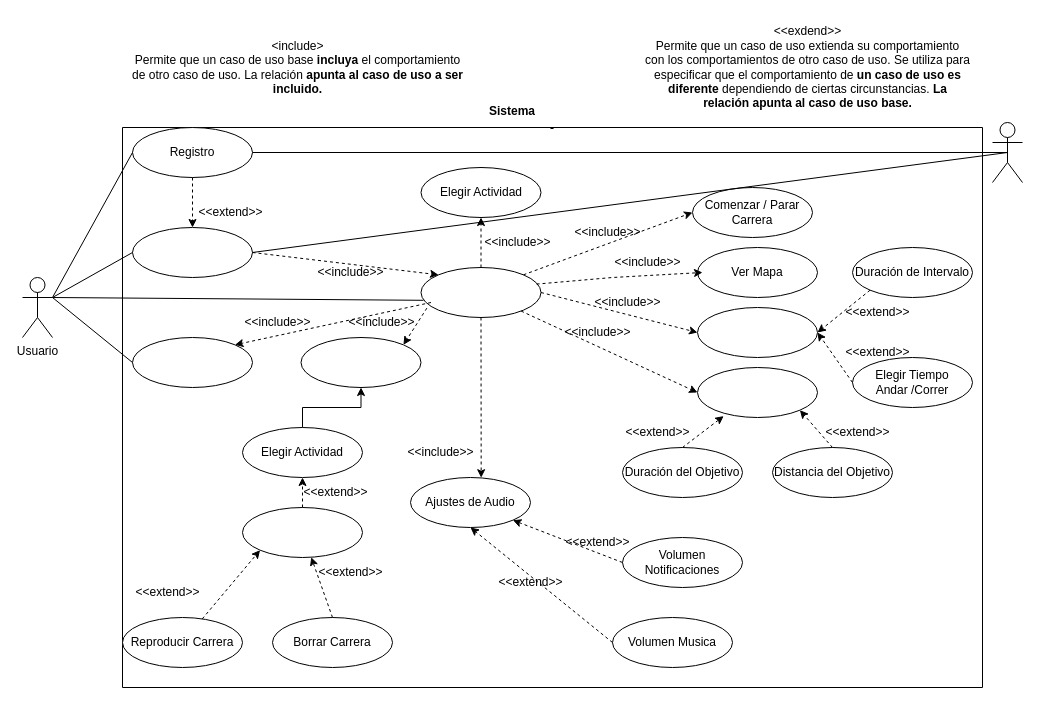
The diagram is 1064 pixels wide and 705 high, and some of its shapes have lost their labels. The centre of each missing label's shape, as x and y in pixels:
"Base de Datos" goes at (1007,152).
"Carrera con Intervalos" goes at (757,332).
"Cerrar Sesión" goes at (192,362).
"Historial" goes at (360,362).
"Inicio Sesión" goes at (192,252).
"Marcar Objetivos" goes at (757,392).
"Menu" goes at (480,292).
"Ver Historial" goes at (302,532).
